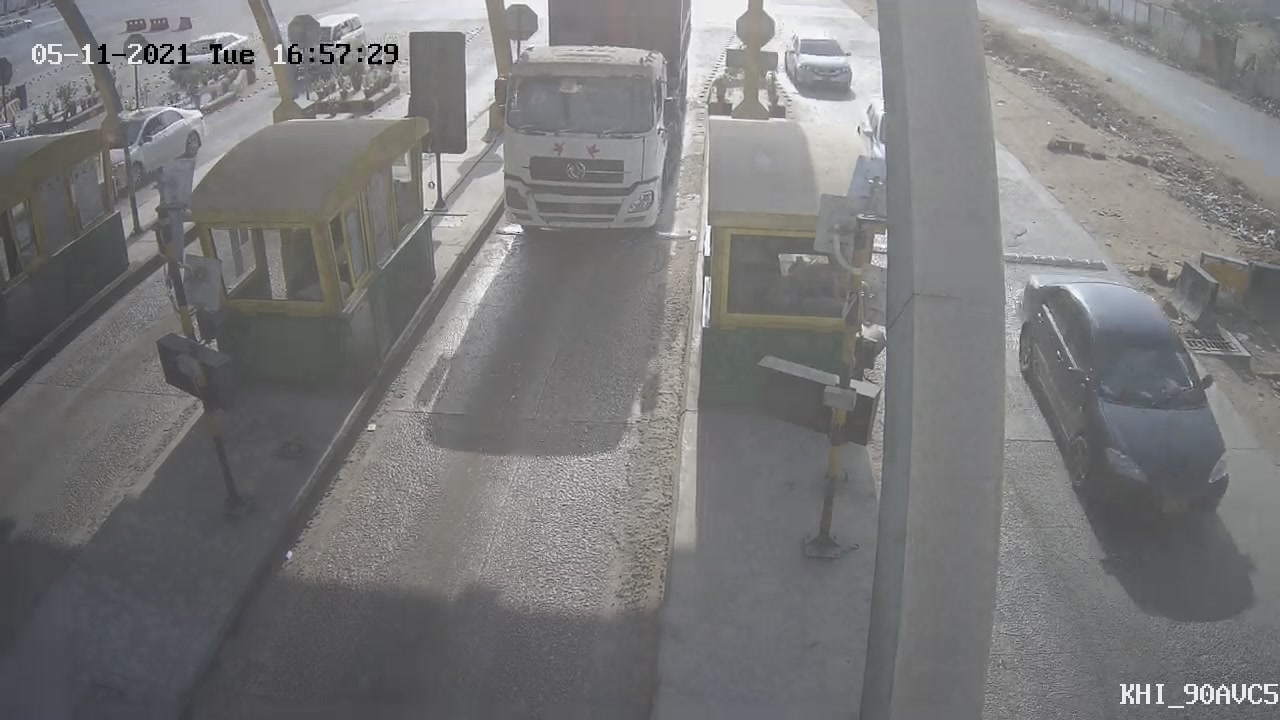F6: (469, 1, 711, 265)
